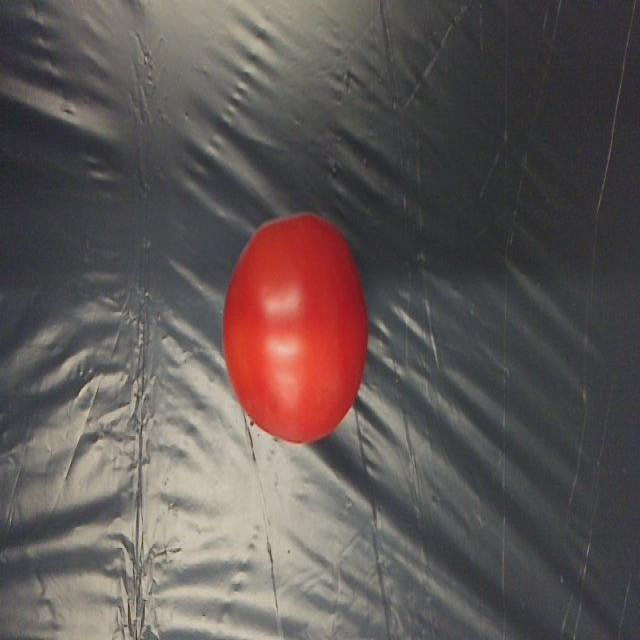kirmizi: (222, 221, 372, 448)
